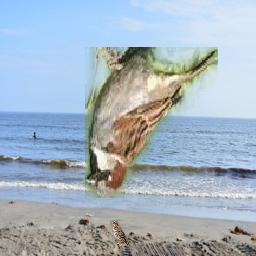Sparrow: (86, 48, 219, 199), (110, 220, 132, 252)
